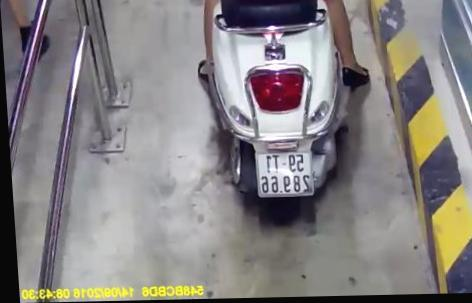License_Plate: (250, 148, 317, 205)
